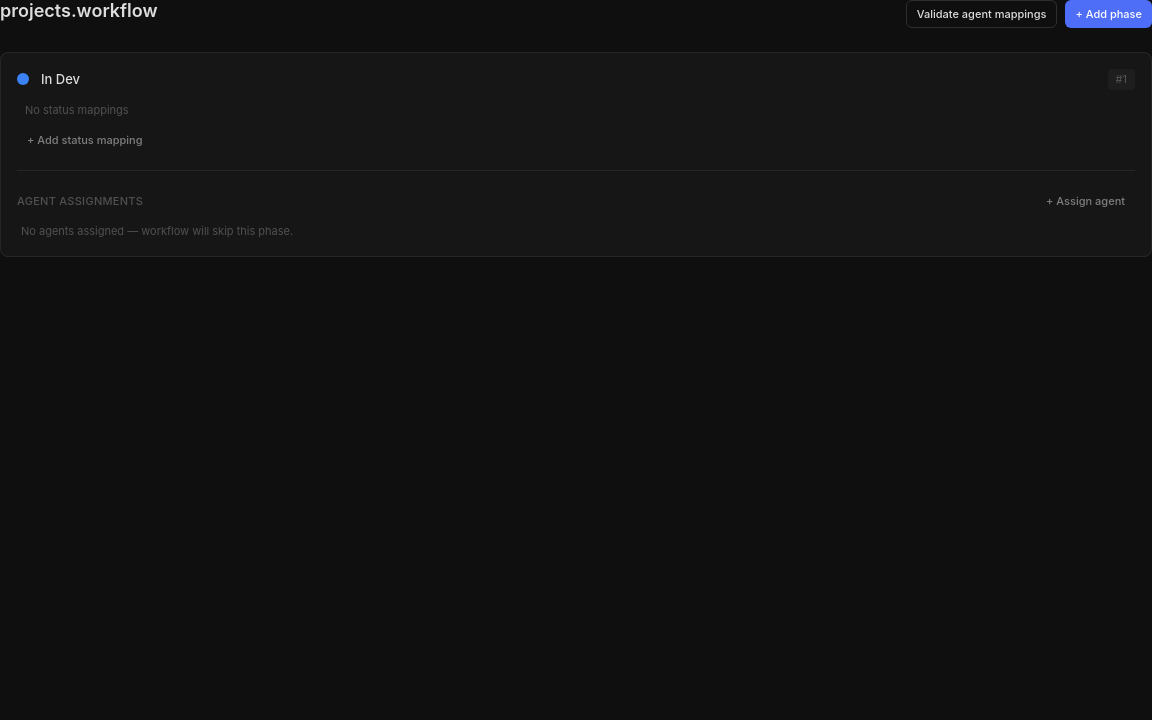
it: WorkflowPage — Phase-Agent Mapping UI › Agent dropdown filters by supported phases (Req 2.2) › opens assign modal when "Assign agent" is clicked
Click the button "+ Assign agent": (1086, 201) [1036, 187, 1135, 215]
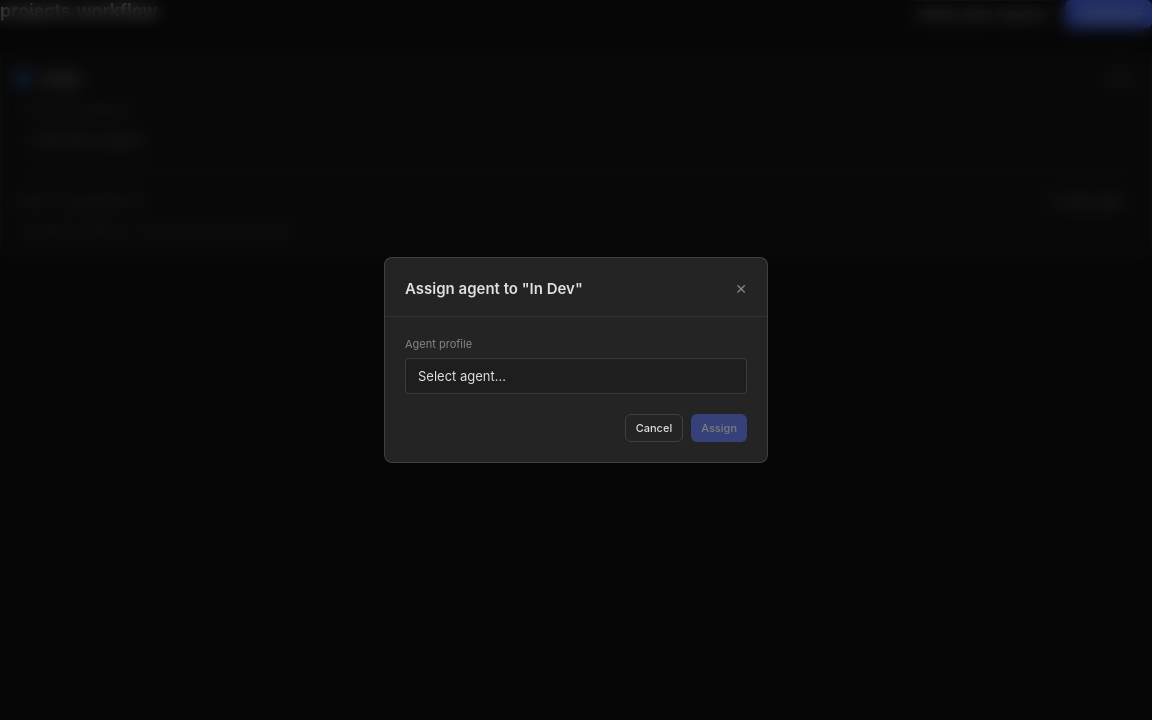
Now the heading "Assign agent to \"In Dev\"" is shown, box [405, 278, 583, 300]
